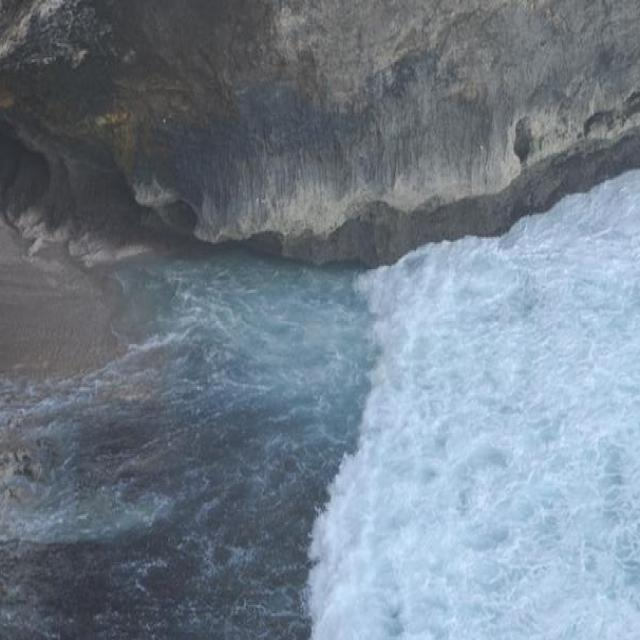reef: (7, 36, 577, 268)
